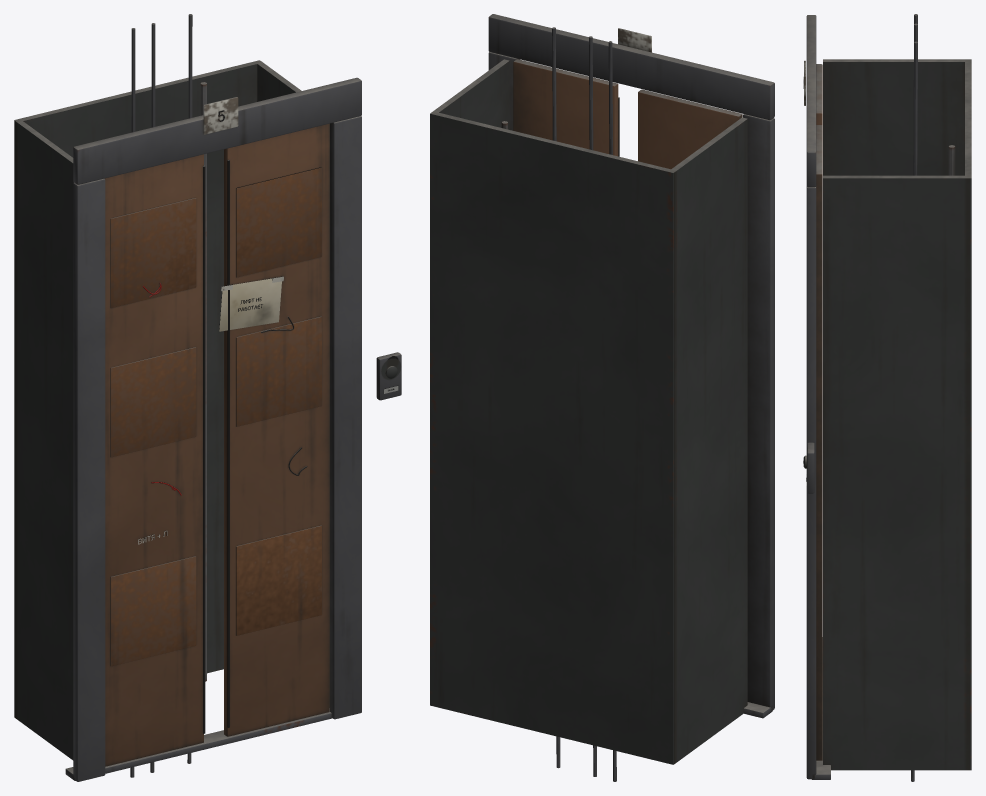
File: SM_Elevator_Door.fbx
3 renders of one model, left to right at view 1: azimuth 30°, elevation 25°; view 2: azimuth 150°, elevation 25°; view 3: azimuth 270°, elevation 25°, orthographic.
Parts seen in each view (by area): view 1: SM_Elevator_Door; view 2: SM_Elevator_Door; view 3: SM_Elevator_Door.
Boxes of the visible parts, bbox=[...] form: SM_Elevator_Door: bbox=[14, 14, 401, 781]; SM_Elevator_Door: bbox=[430, 14, 774, 781]; SM_Elevator_Door: bbox=[803, 14, 971, 781].
Bounding box in the file's own units: 1.14 × 2.5 × 0.515.
Materials: 1 (1 with a texture image).
